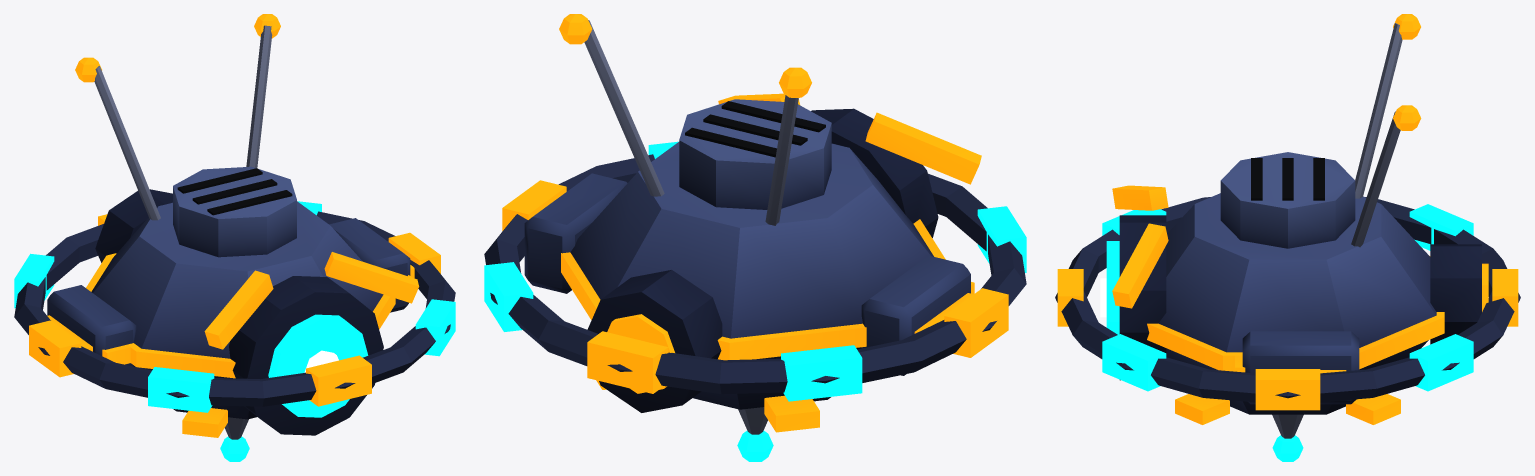
The model's file is dron_mensaje.glb.
3 views of the same model, side by side, from view 1: azimuth 30°, elevation 25°; view 2: azimuth 150°, elevation 25°; view 3: azimuth 270°, elevation 25° (orthographic). The views are drawn at different scales.
Visible parts, largest first — view 1: cuerpo, anillo; view 2: cuerpo, anillo; view 3: cuerpo, anillo.
Boxes of the visible parts, left/top/right/bottom form: cuerpo: left=47, top=14, right=419, bottom=461; anillo: left=14, top=201, right=455, bottom=412; cuerpo: left=524, top=14, right=981, bottom=461; anillo: left=484, top=141, right=1026, bottom=401; cuerpo: left=1100, top=14, right=1488, bottom=461; anillo: left=1055, top=197, right=1520, bottom=410.
Bounding box in the file's own units: 0.36 × 0.343 × 0.36.
